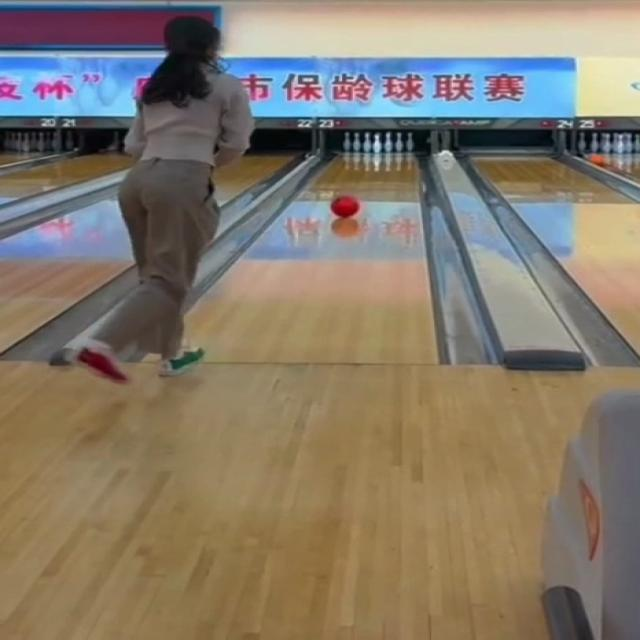alley: (190, 154, 435, 362)
balls: (331, 196, 358, 216)
bottle: (339, 131, 413, 155)
